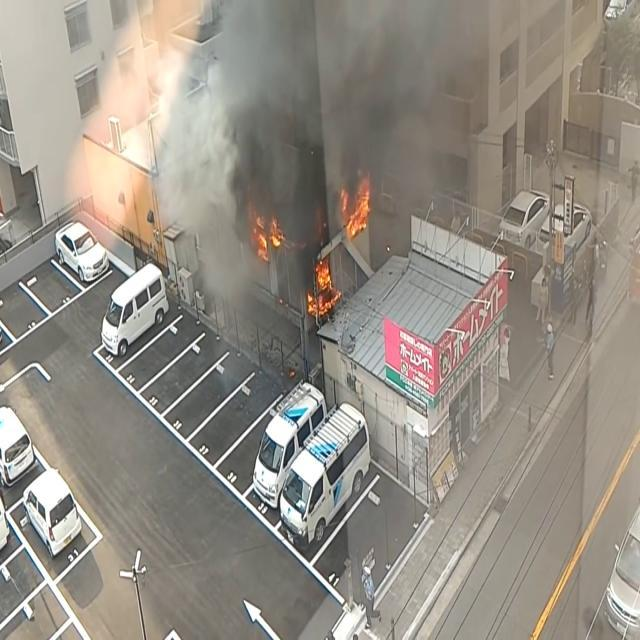Fire: (339, 172, 374, 246), (305, 251, 339, 321), (250, 206, 286, 263)
Smoke: (130, 0, 460, 320)
